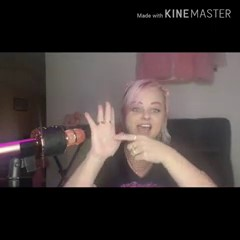J: (80, 100, 172, 175)
